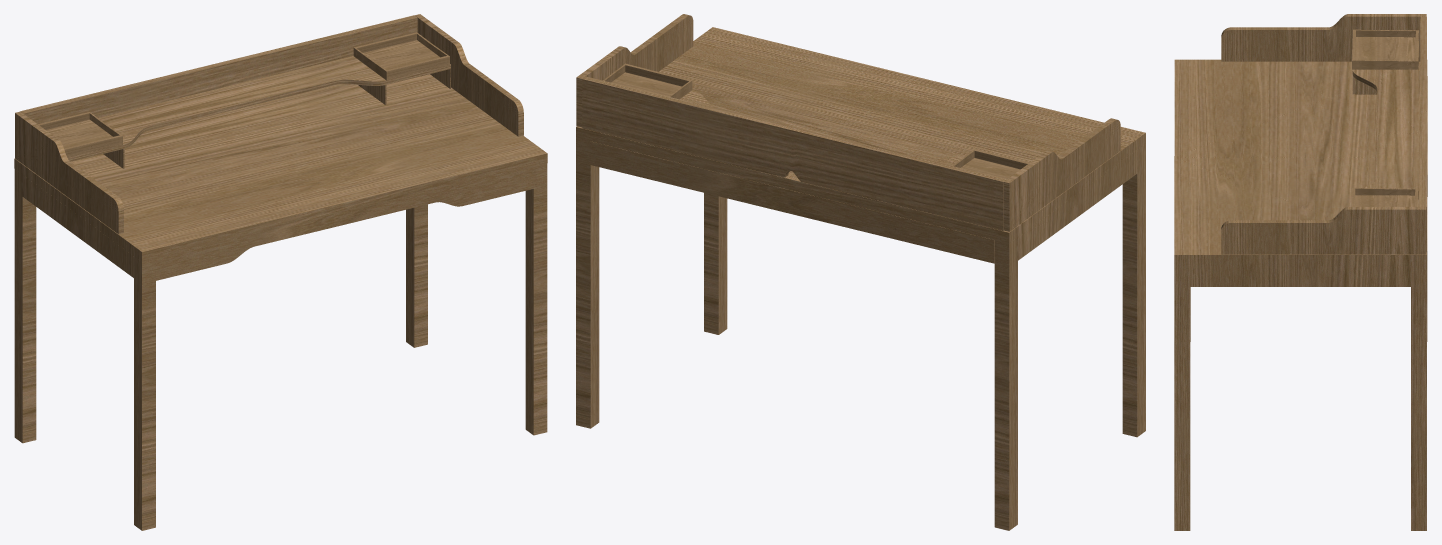
The model's file is Gustav_Desk-3D.DAE.
3 renders of one model, left to right at view 1: azimuth 30°, elevation 25°; view 2: azimuth 150°, elevation 25°; view 3: azimuth 270°, elevation 25°, orthographic. The views are drawn at different scales.
Visible parts, largest first — view 1: Cylinder02-Pivot; view 2: Cylinder02-Pivot; view 3: Cylinder02-Pivot.
Boxes of the visible parts, x1=… form: Cylinder02-Pivot: x1=14, y1=14, x2=547, y2=530; Cylinder02-Pivot: x1=576, y1=14, x2=1145, y2=530; Cylinder02-Pivot: x1=1174, y1=14, x2=1427, y2=530.
Bounding box in the file's own units: 1099 × 842 × 601.
